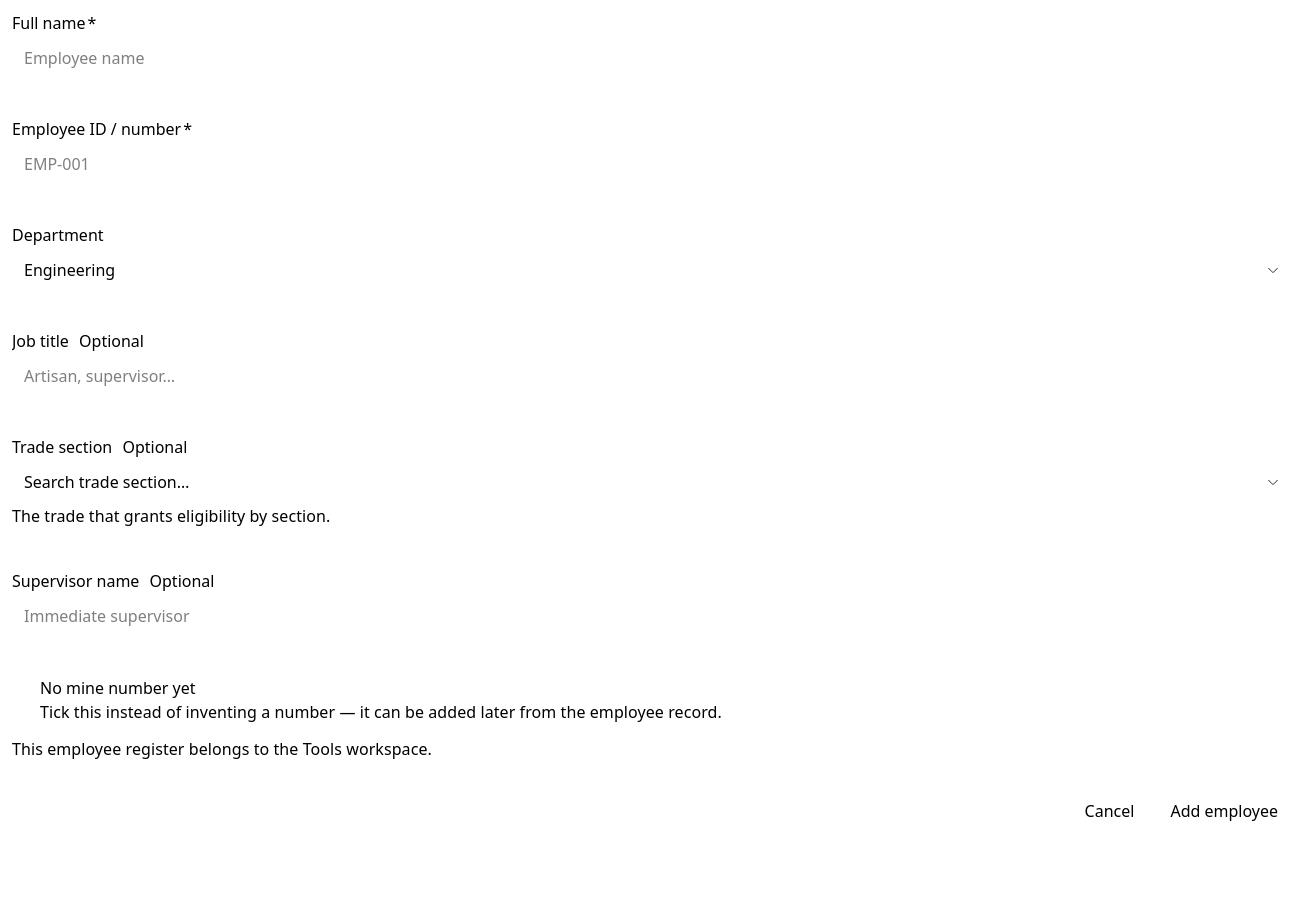
it: Tools interaction controls › creates one employee on double submit
Type "N. One" into the field labelled "Full name" at (652, 58), box [12,40,1292,76]
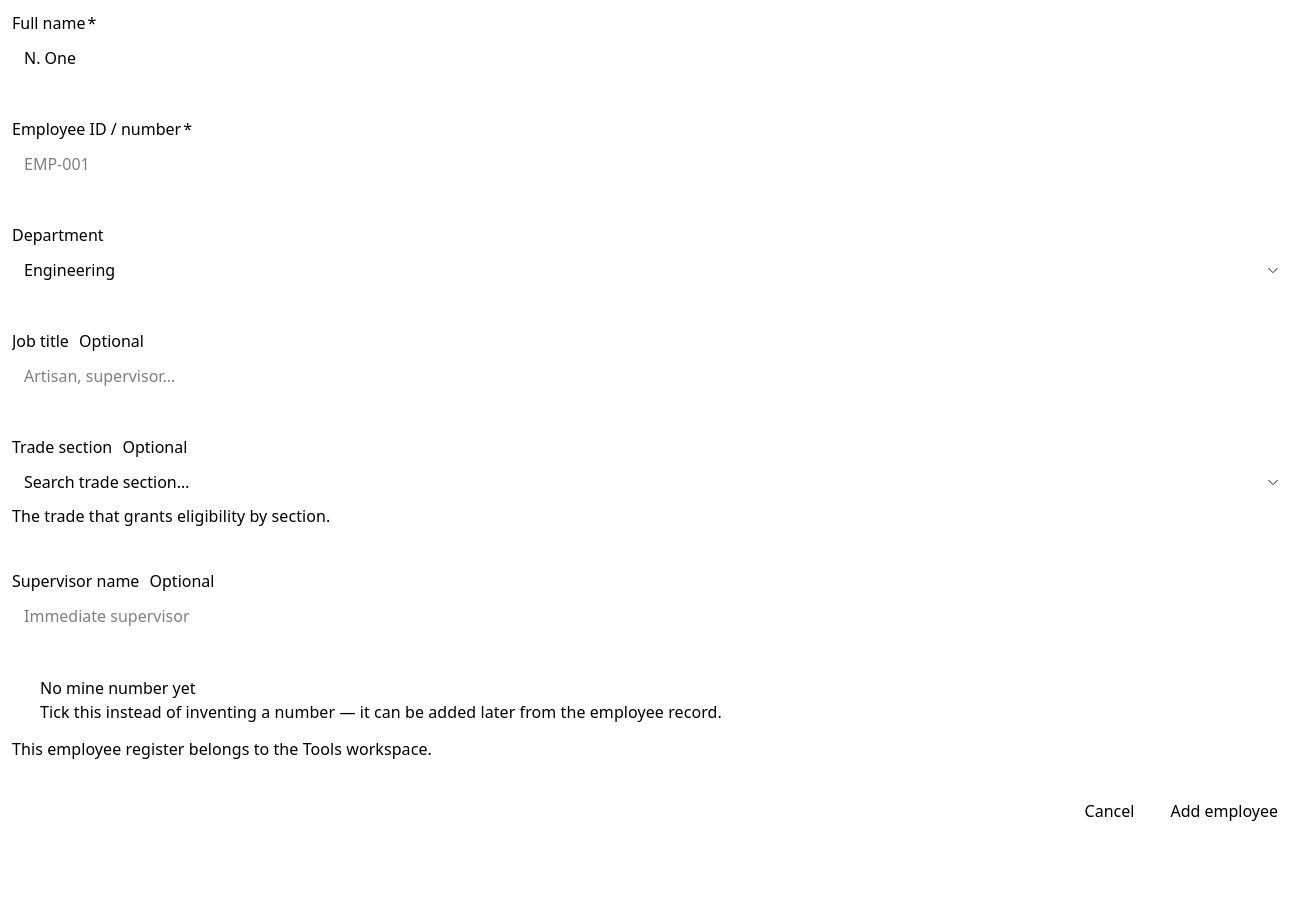
Type "E-900" into the field named "Employee ID or number" at (652, 164), box [12,146,1292,182]
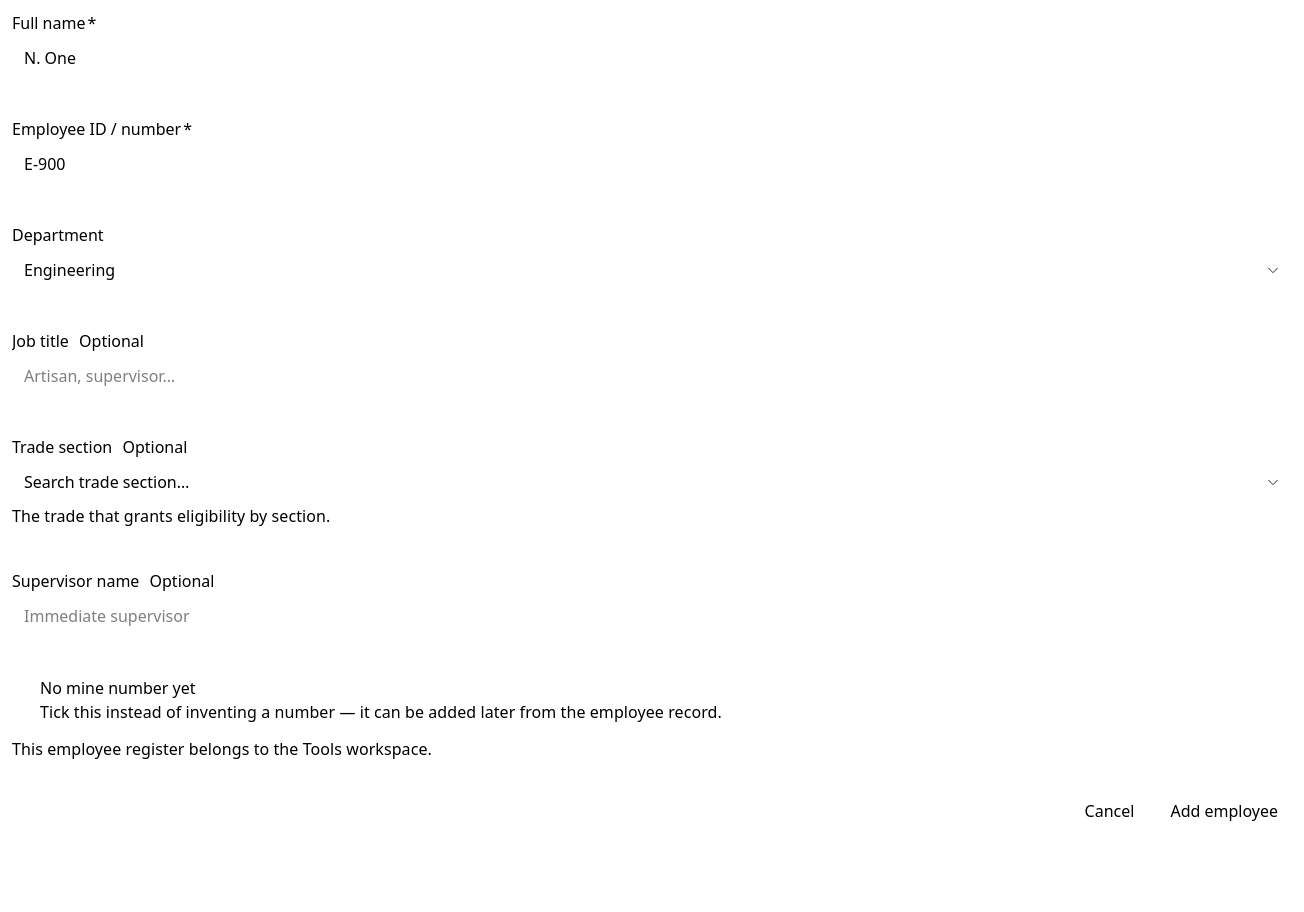
Click the button "Add employee" at (1224, 811), box [1156,793,1292,829]
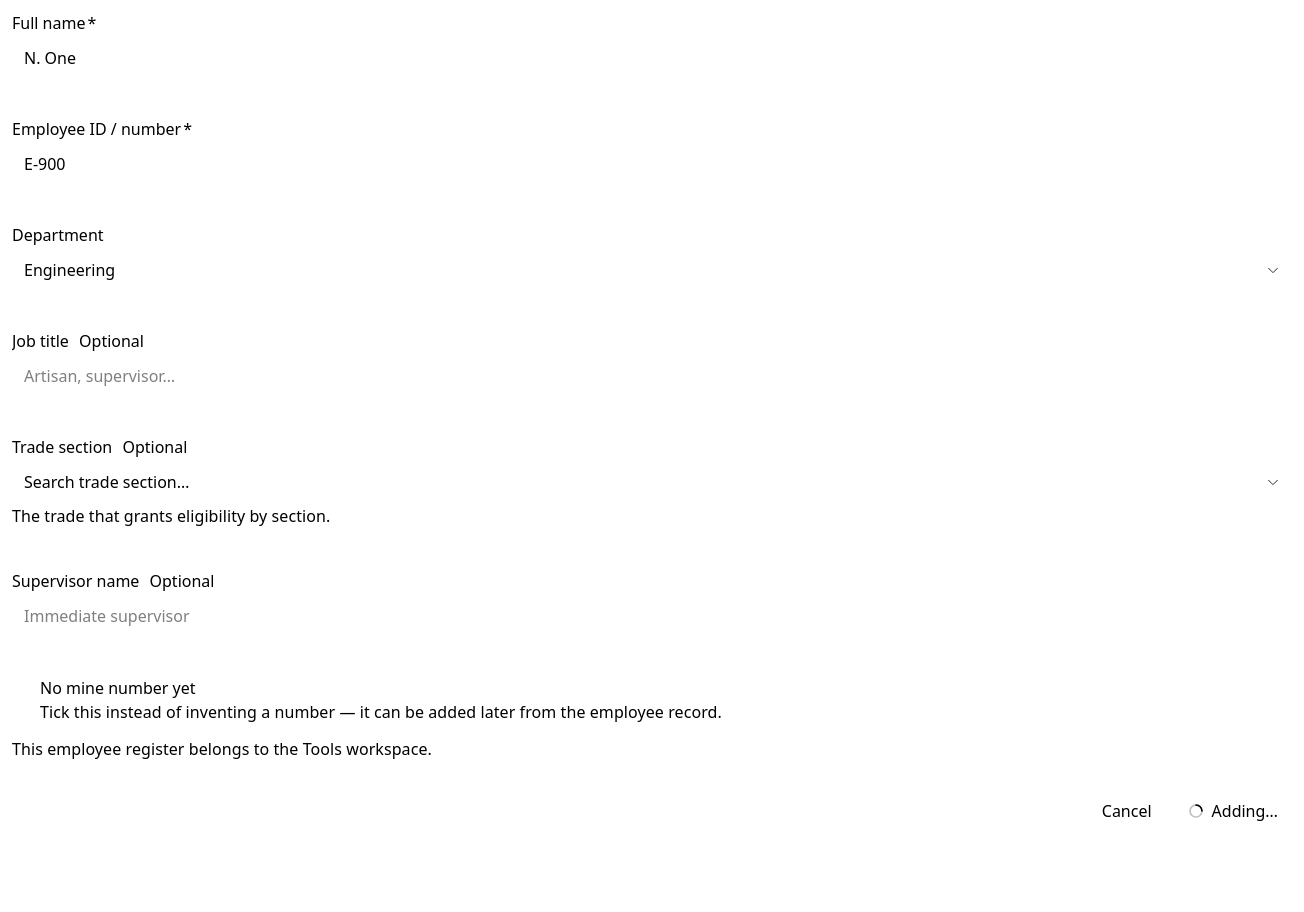
Now the button "Adding…" is disabled
Click the button "Adding…" at (1233, 811), box [1174,793,1292,829]
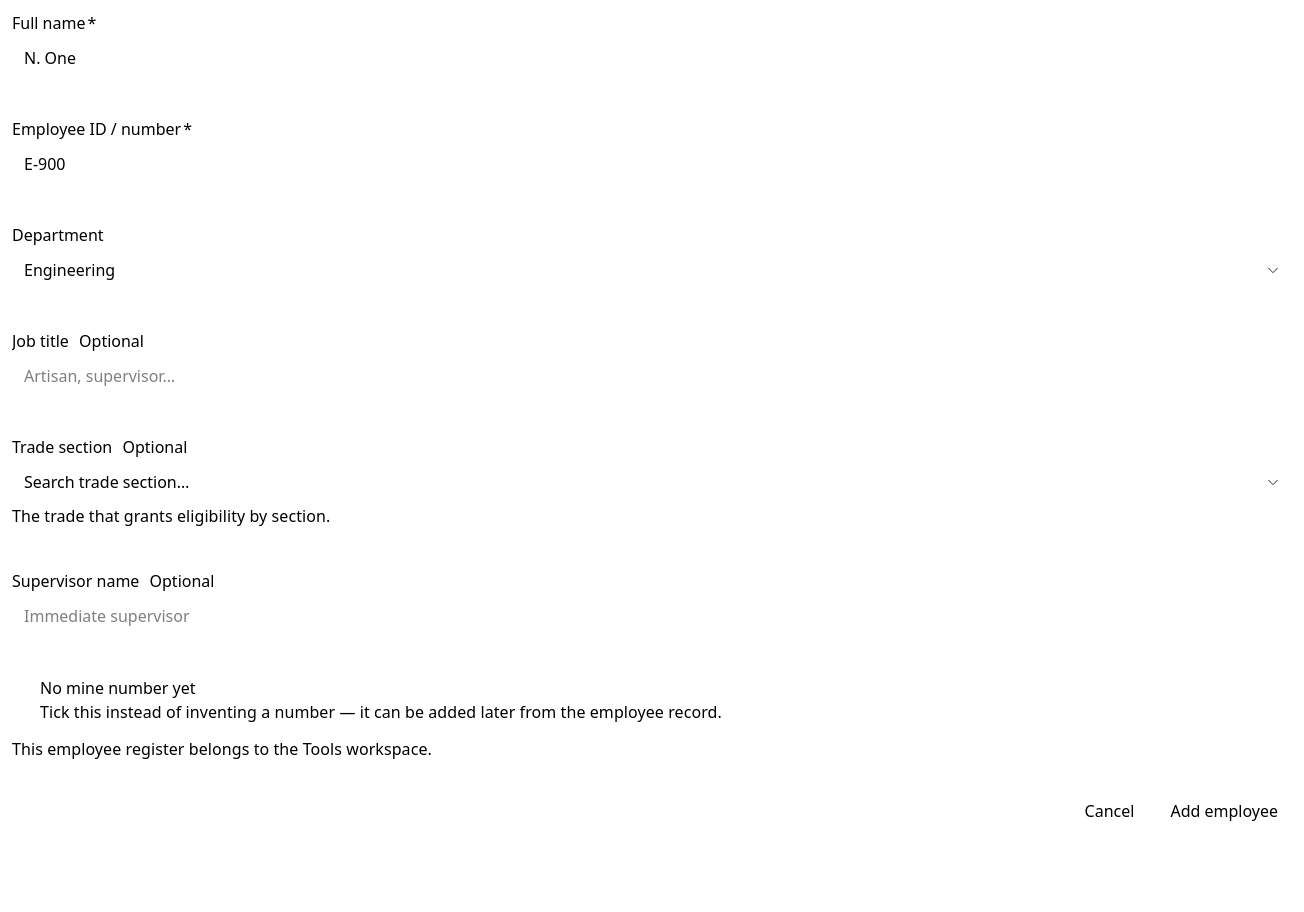
Now the button "Add employee" is enabled, box [1156,793,1292,829]
